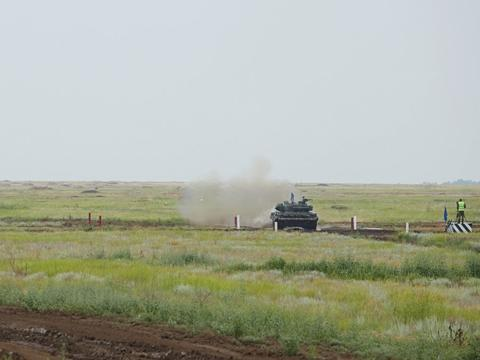tank: (271, 201, 318, 230)
